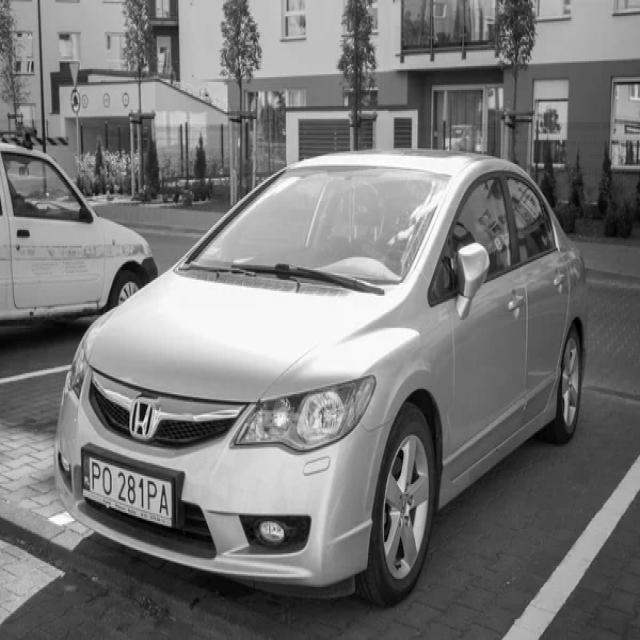Car: (54, 151, 587, 606), (0, 143, 156, 323)
